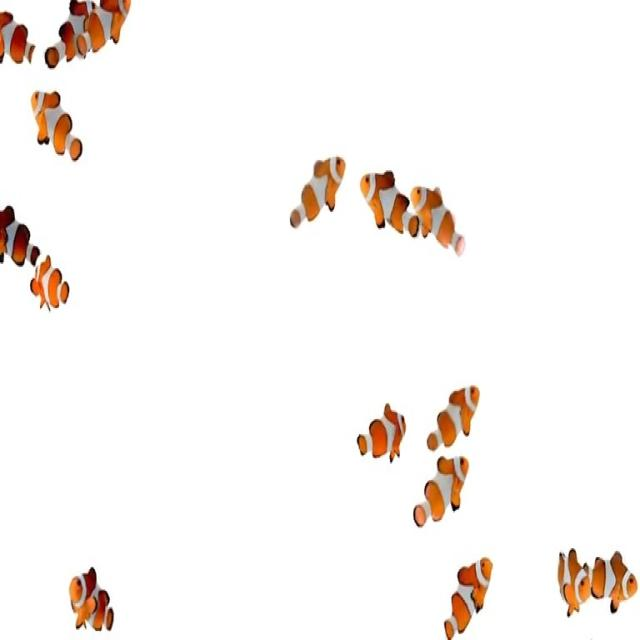fish: (30, 83, 100, 170), (288, 142, 349, 238), (411, 180, 467, 277), (357, 162, 418, 250), (410, 451, 471, 529), (426, 376, 486, 452), (444, 555, 492, 640), (351, 399, 411, 466), (41, 0, 96, 70), (0, 191, 44, 275), (79, 0, 138, 62), (29, 253, 87, 315), (68, 562, 118, 632), (592, 545, 638, 611), (558, 548, 594, 622), (2, 11, 36, 68)
